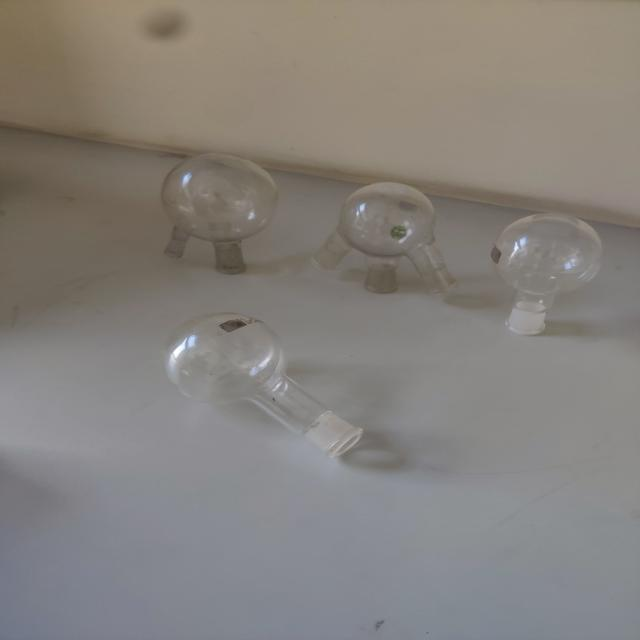Round_Bottom_Flask_Borosilicate_Glass_1_Neck: (120, 306, 423, 477), (482, 197, 620, 348)
Round_Bottom_Flask_Borosilicate_Glass_2_Neck: (137, 140, 307, 292)
Round_Bottom_Flask_Borosilicate_Glass_3_Neck: (297, 165, 476, 320)
